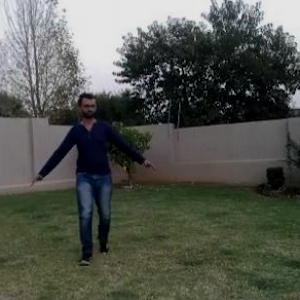land: (12, 82, 167, 287)
